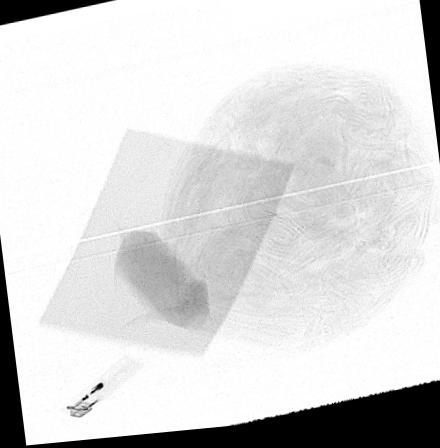Lighter: (62, 355, 144, 419)
